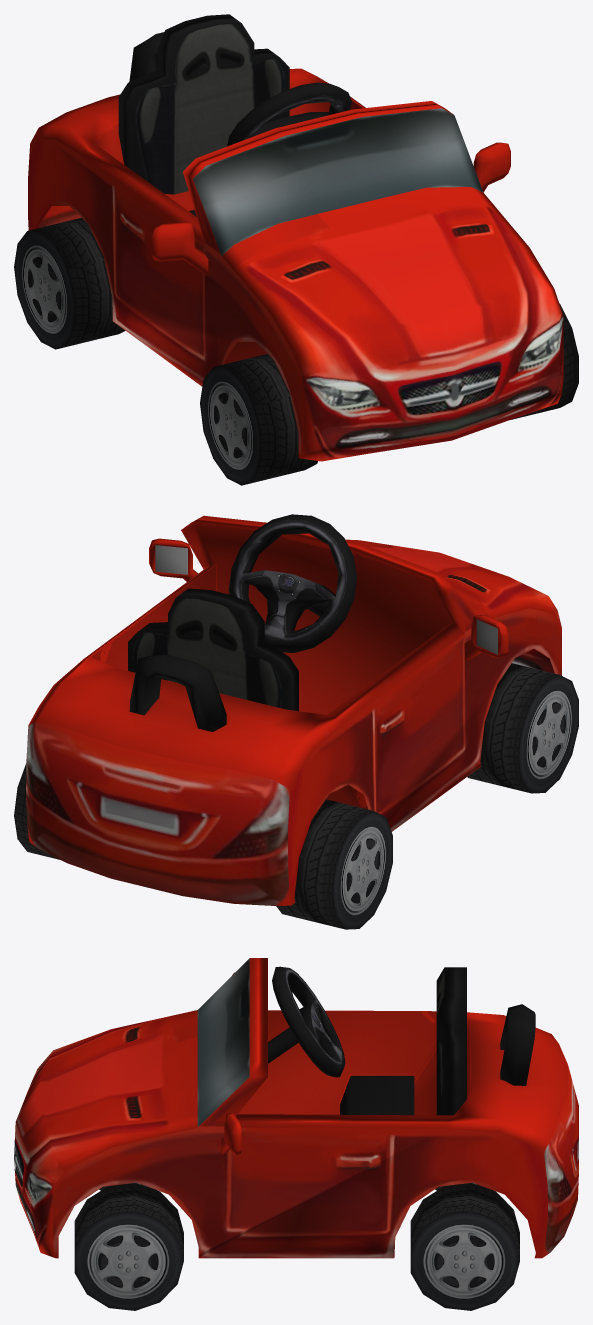
The model's file is sportscar.fbx.
3 renders of one model, top to bottom at view 1: azimuth 30°, elevation 25°; view 2: azimuth 150°, elevation 25°; view 3: azimuth 270°, elevation 25°, orthographic. The views are drawn at different scales.
Visible parts, largest first — view 1: sportscar; view 2: sportscar; view 3: sportscar.
Part boxes in pixels (x1,y1,x2,y2): sportscar: [14, 14, 578, 485]; sportscar: [14, 514, 578, 929]; sportscar: [14, 958, 578, 1310].
Size of the model in its own units: 16.88 by 13.24 by 25.41.
